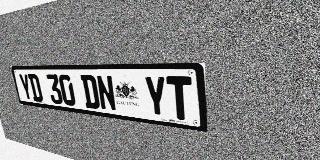0: (58, 74, 76, 106)
3: (46, 74, 63, 105)
D: (80, 75, 100, 109), (27, 74, 44, 102)
N: (96, 75, 117, 112)
T: (166, 76, 193, 121)
Y: (143, 76, 169, 118), (18, 74, 34, 101)
